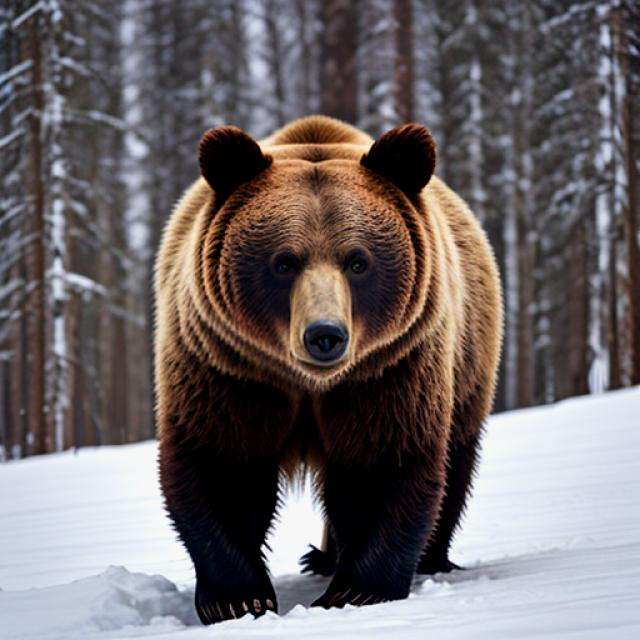bear: (170, 115, 474, 388)
